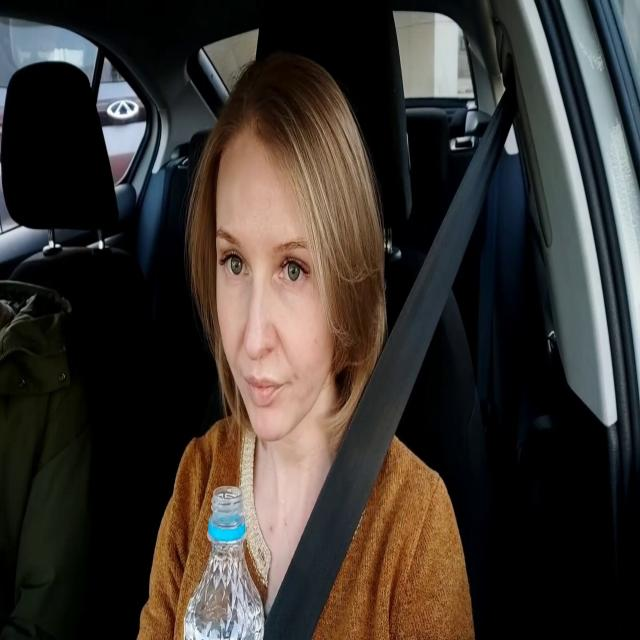3: (265, 77, 521, 640)
Seatbelt: (182, 477, 266, 640)
